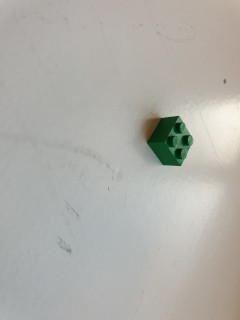2x2 green: (146, 115, 194, 167)
